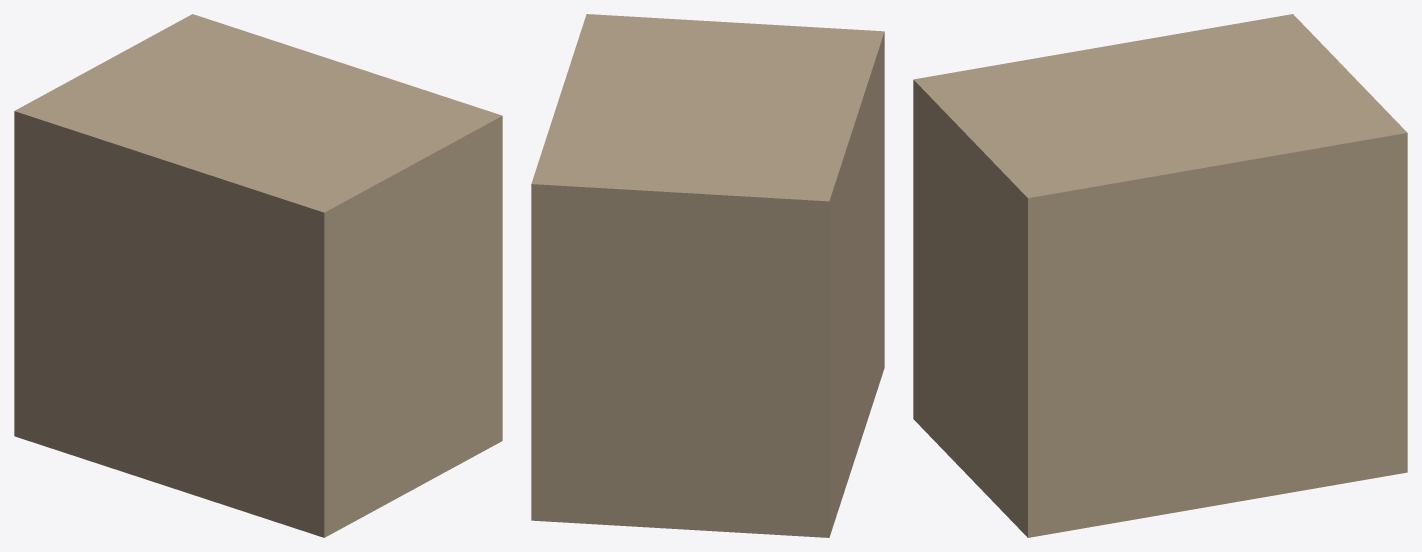
Rendered from bld_106796614.dae.
The picture shows the model from 3 angles, left to right: view 1: azimuth 30°, elevation 25°; view 2: azimuth 150°, elevation 25°; view 3: azimuth 270°, elevation 25°; orthographic projection. The views are drawn at different scales.
Visible parts, largest first — view 1: bld_106796614; view 2: bld_106796614; view 3: bld_106796614.
Part boxes in pixels (<box>): bld_106796614: <box>14,14,502,537</box>; bld_106796614: <box>531,14,884,537</box>; bld_106796614: <box>913,14,1407,537</box>.
Size of the model in its own units: 9.31 by 10.55 by 8.
